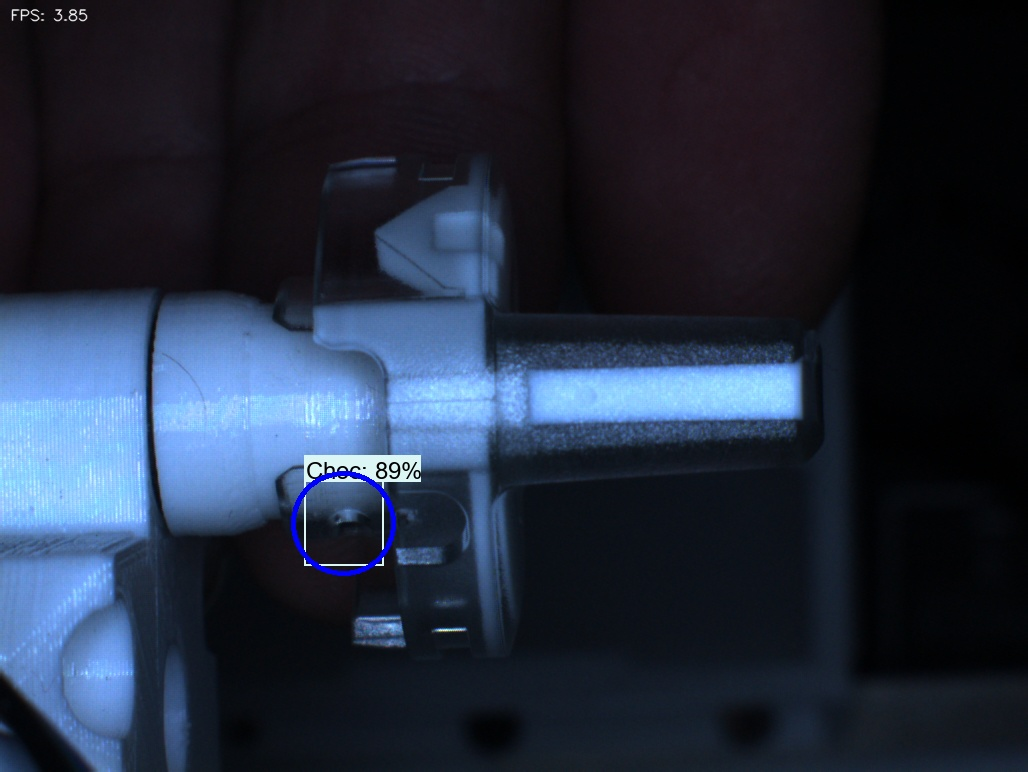DentOk: (345, 204, 425, 291)
